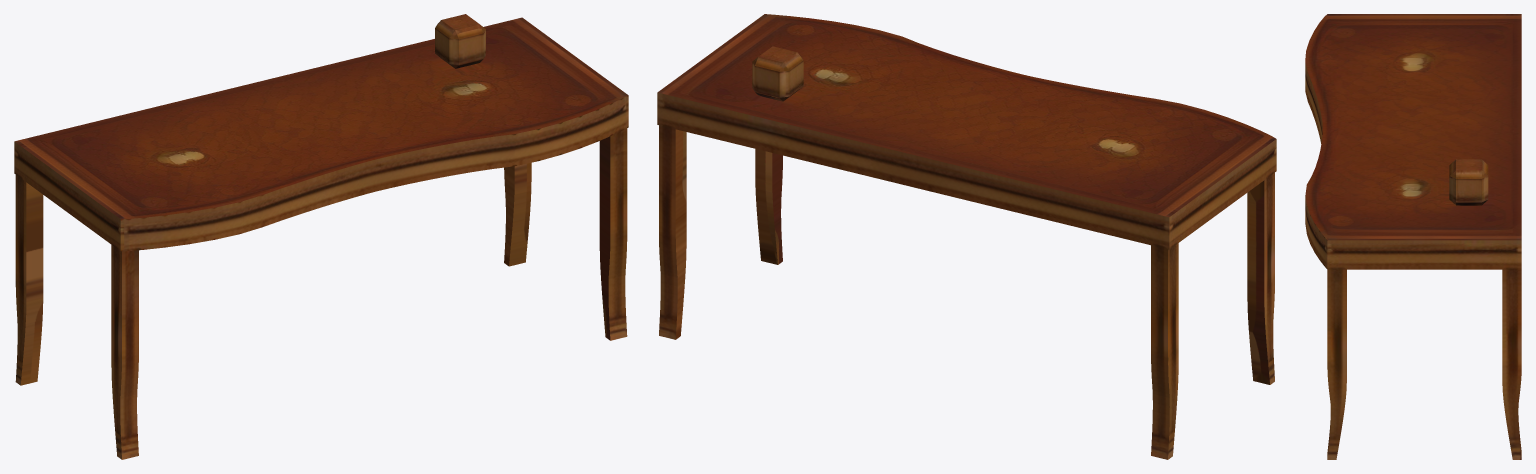
The model's file is edited_mesh.glb.
The picture shows the model from 3 angles, left to right: view 1: azimuth 30°, elevation 25°; view 2: azimuth 150°, elevation 25°; view 3: azimuth 270°, elevation 25°; orthographic projection. The views are drawn at different scales.
Visible parts, largest first — view 1: solid_001_wire; view 2: solid_001_wire; view 3: solid_001_wire.
Boxes of the visible parts, x1,y1,x2,y2 form: solid_001_wire: [14, 14, 628, 459]; solid_001_wire: [657, 14, 1276, 459]; solid_001_wire: [1305, 14, 1521, 459].
Size of the model in its own units: 1.95 by 1.03 by 0.7881.
1 material, 1 textured.
